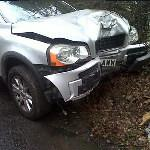bonnet-dent: (25, 14, 129, 43)
front-bumper-dent: (53, 41, 138, 80)
